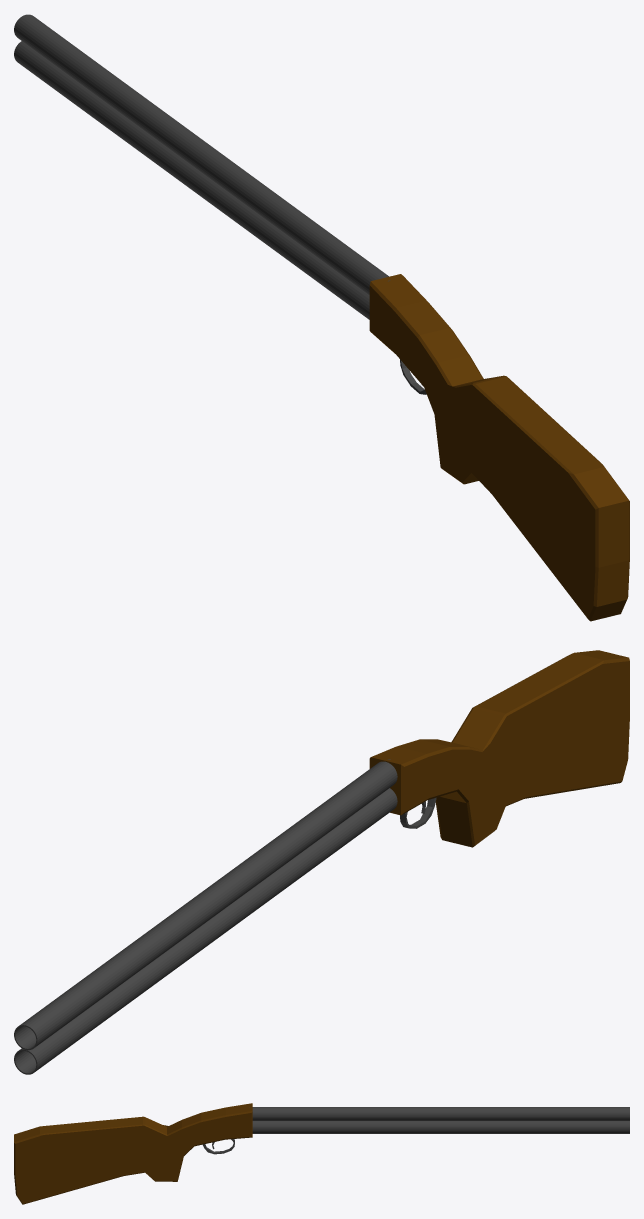
Rendered from Shotgun.glb.
3 views of the same model, one above another, from view 1: azimuth 30°, elevation 25°; view 2: azimuth 150°, elevation 25°; view 3: azimuth 270°, elevation 25° (orthographic). The views are drawn at different scales.
Parts seen in each view (by area): view 1: stock, barrels; view 2: stock, barrels; view 3: stock, barrels.
Part boxes in pixels (bbox=[...]): stock: bbox=[369, 274, 629, 621]; barrels: bbox=[14, 14, 390, 319]; stock: bbox=[369, 650, 629, 847]; barrels: bbox=[14, 759, 397, 1074]; stock: bbox=[14, 1103, 252, 1204]; barrels: bbox=[249, 1107, 629, 1133].
Bounding box in the file's own units: 0.1178 × 0.5848 × 3.48.
